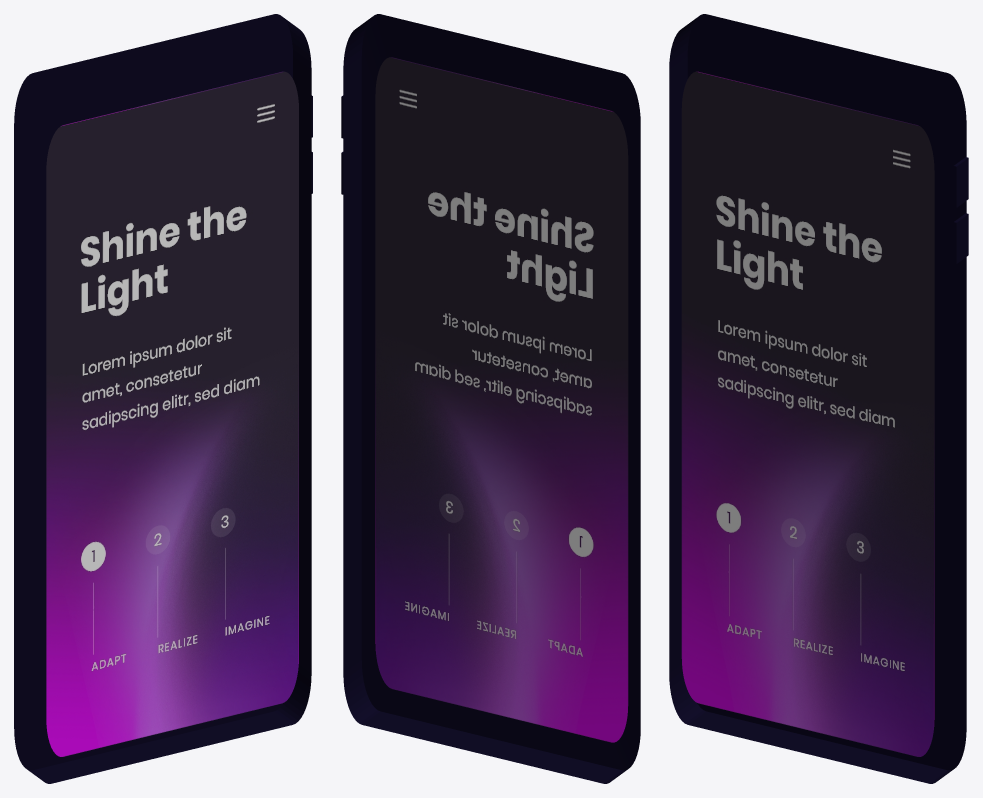
File: phone.glb
The picture shows the model from 3 angles, left to right: view 1: azimuth 30°, elevation 25°; view 2: azimuth 150°, elevation 25°; view 3: azimuth 330°, elevation 25°; orthographic projection.
Parts seen in each view (by area): view 1: Plane; view 2: Plane; view 3: Plane.
Part boxes in pixels (left/top/right/bottom): Plane: left=14, top=14, right=312, bottom=783; Plane: left=341, top=14, right=640, bottom=783; Plane: left=669, top=14, right=968, bottom=783.
Bounding box in the file's own units: 1.89 × 4.45 × 0.2198.
2 materials, 1 textured.
